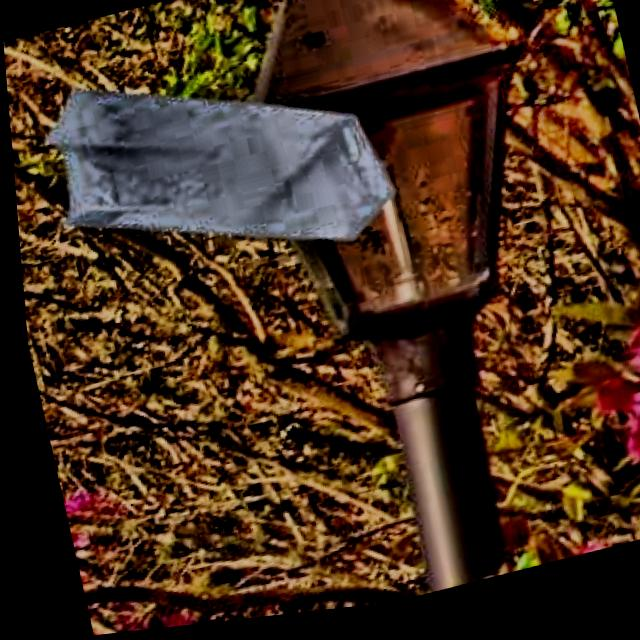Plastic: (9, 23, 413, 330)
